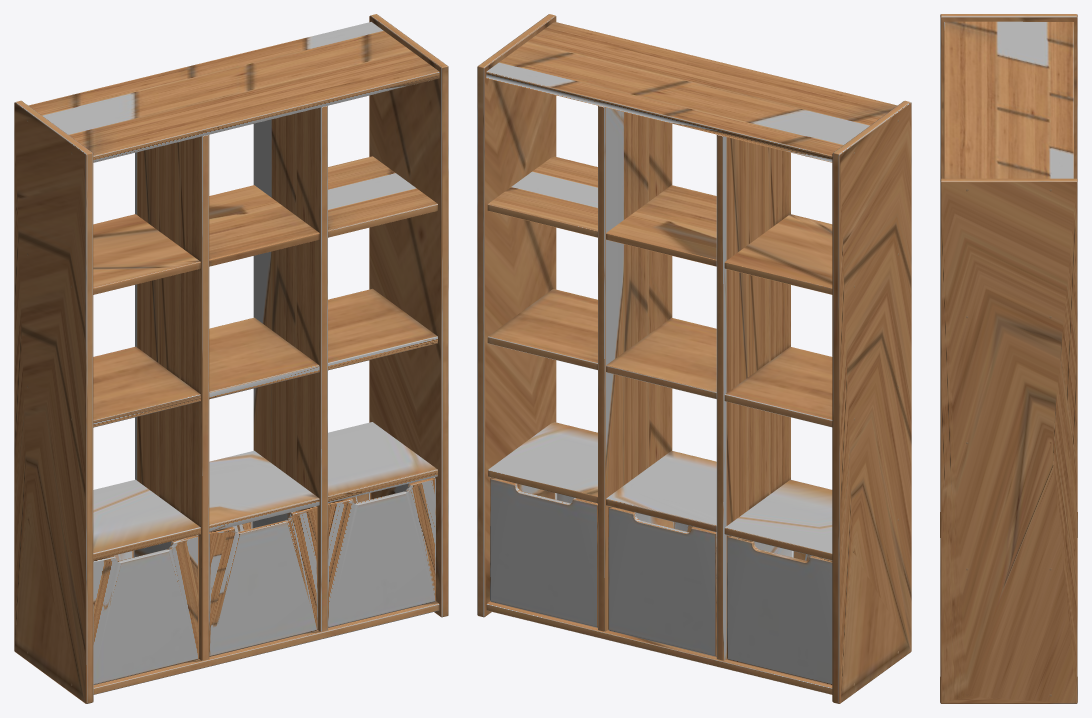
File: wooden_display_shelves_01.glb
3 views of the same model, side by side, from view 1: azimuth 30°, elevation 25°; view 2: azimuth 150°, elevation 25°; view 3: azimuth 270°, elevation 25° (orthographic). The views are drawn at different scales.
Visible parts, largest first — view 1: wooden_display_shelves_01; view 2: wooden_display_shelves_01; view 3: wooden_display_shelves_01.
Boxes of the visible parts, box(x1,y1,x2,y2) form: wooden_display_shelves_01: box(14, 14, 448, 703); wooden_display_shelves_01: box(477, 14, 911, 703); wooden_display_shelves_01: box(940, 14, 1077, 703).
Bounding box in the file's own units: 1.08 × 1.56 × 0.3715.
Materials: 1 (1 with a texture image).
